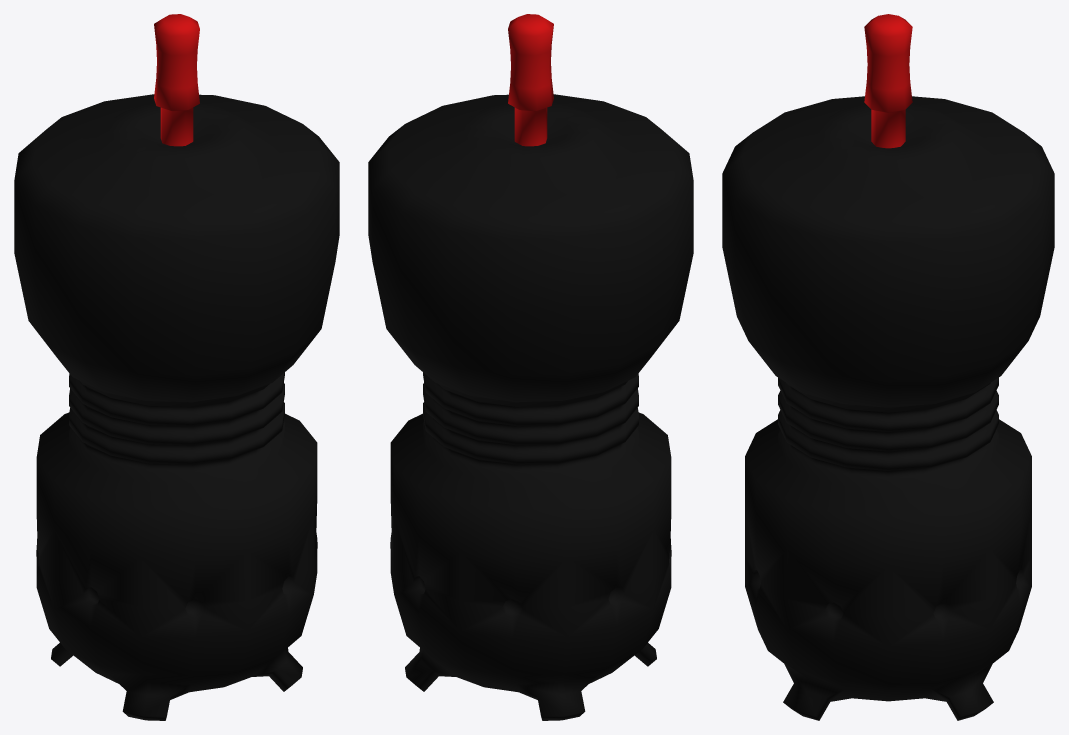
The picture shows the model from 3 angles, left to right: view 1: azimuth 30°, elevation 25°; view 2: azimuth 150°, elevation 25°; view 3: azimuth 270°, elevation 25°; orthographic projection.
Parts seen in each view (by area): view 1: Granade (×2); view 2: Granade (×2); view 3: Granade (×2).
Boxes of the visible parts, x1,y1,x2,y2 form: Granade (×2): (14,14,339,720); Granade (×2): (368,14,693,720); Granade (×2): (722,14,1054,720).
Bounding box in the file's own units: 0.9124 × 2 × 0.9124.
